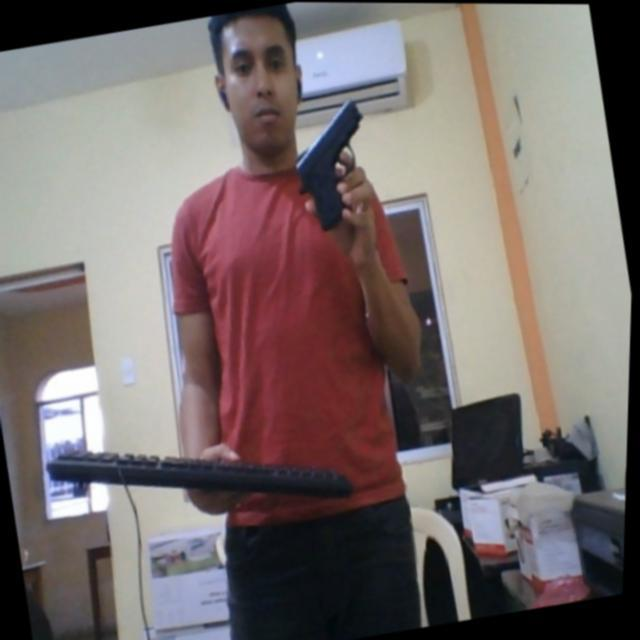weapon: (276, 87, 390, 249)
